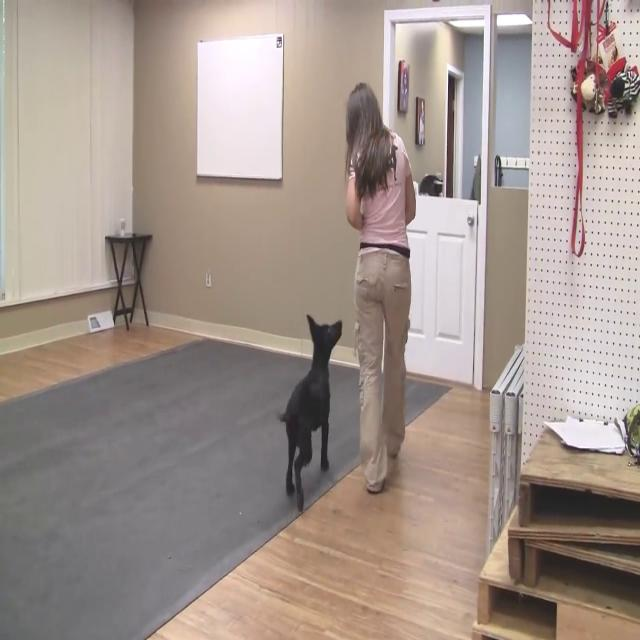Unleashed_Dog: (274, 313, 402, 508)
